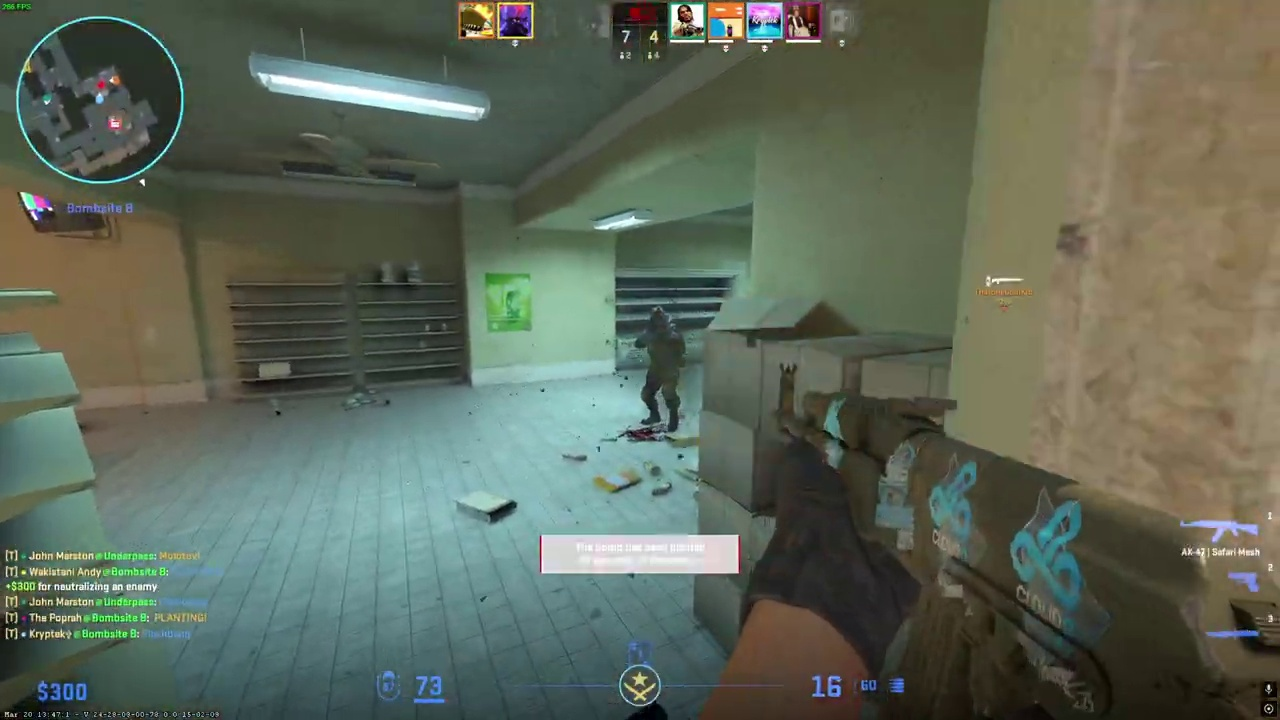CT: (635, 305, 686, 432)
